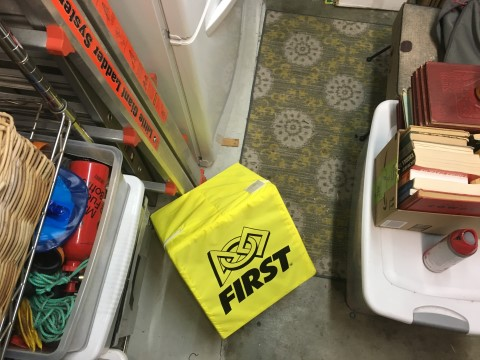cube: (149, 162, 318, 342)
